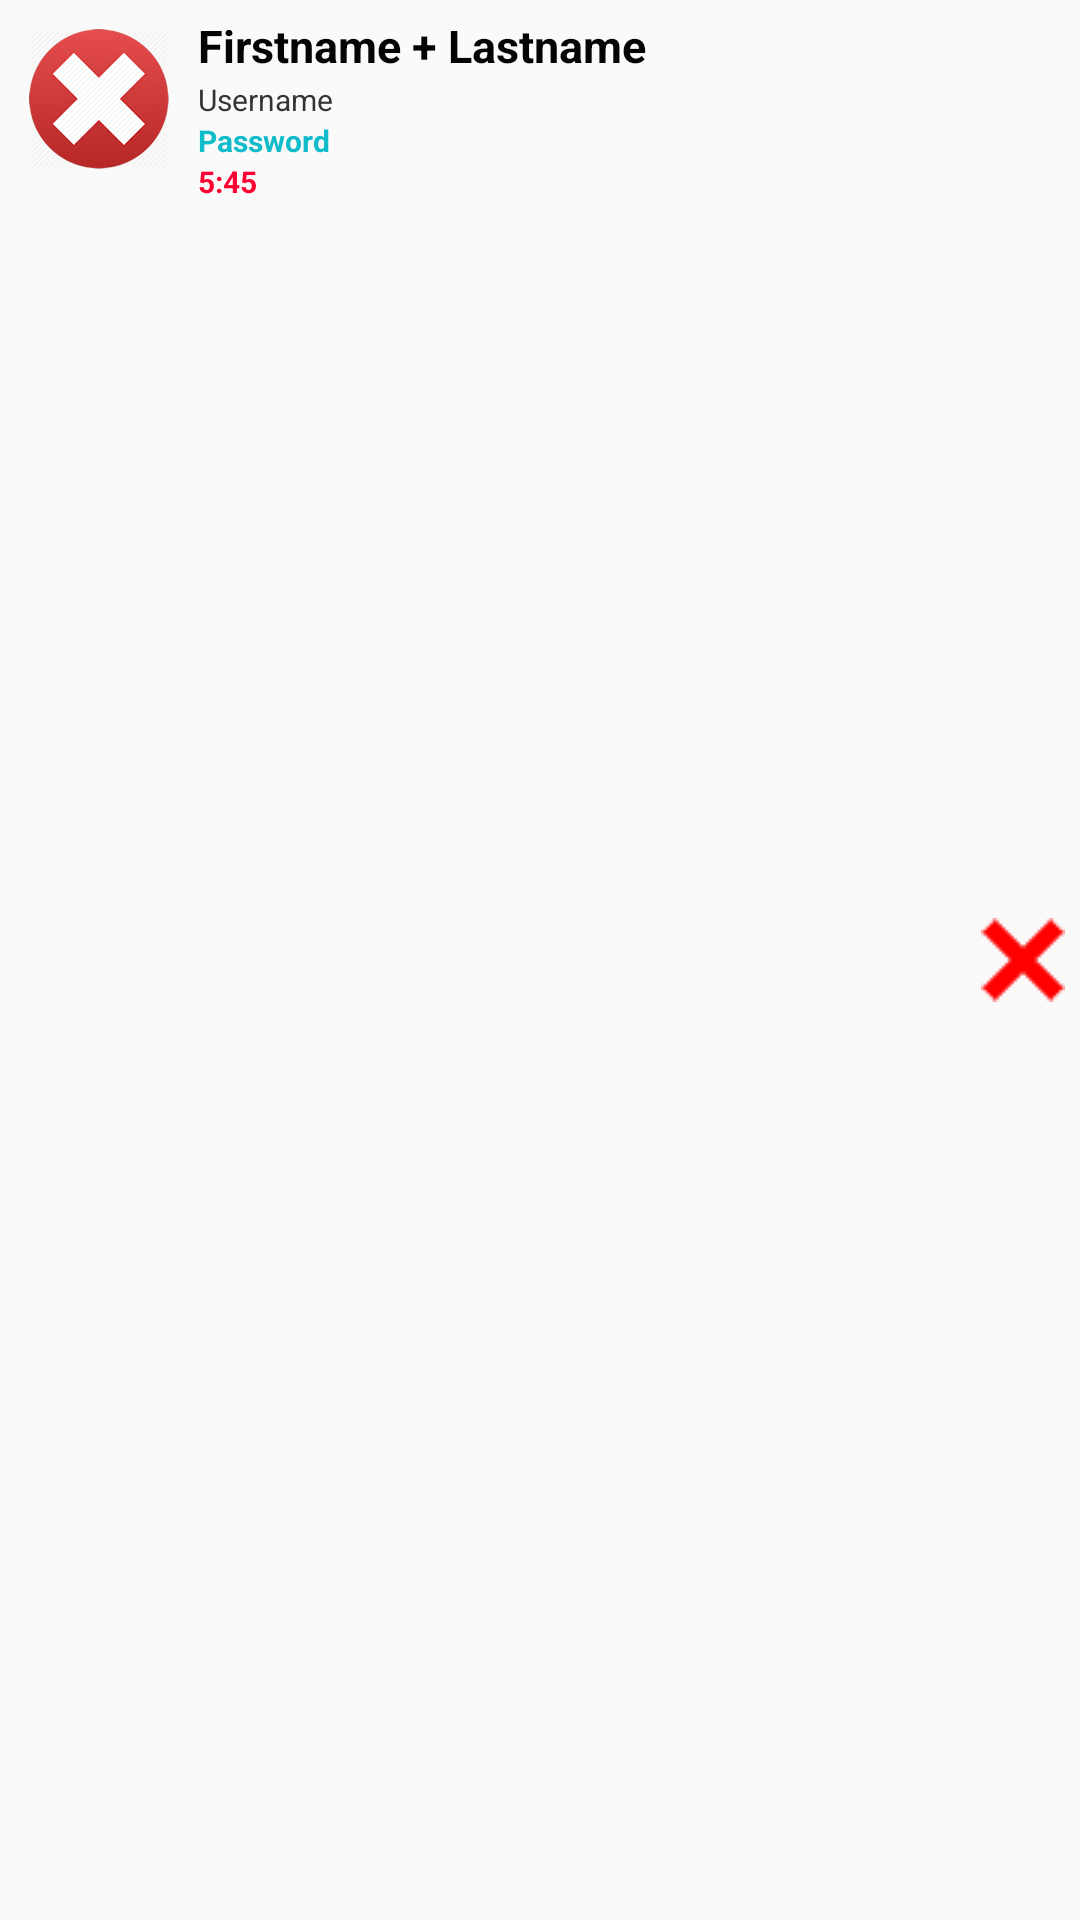

Icon click points for this 1080 x 1920 phone screenshot, format [x,y]:
wrong: [99,99]
wrong tick: [1023,960]
